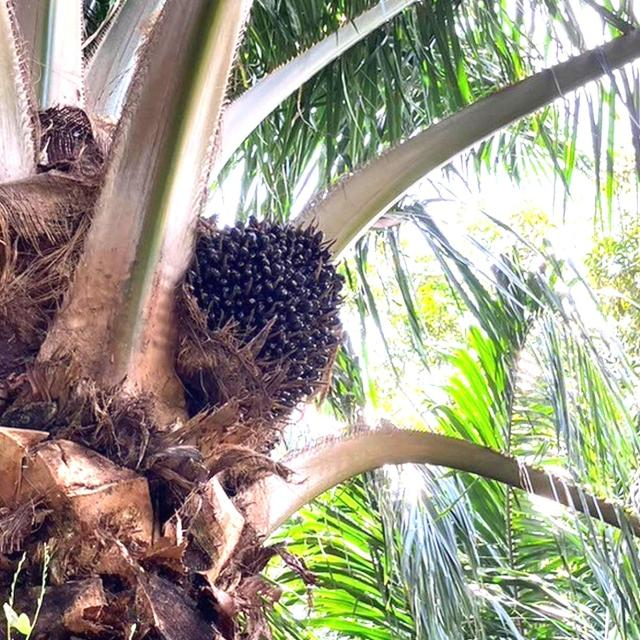unripe: (186, 220, 335, 433)
